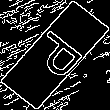P_SE: (21, 25, 89, 85)
